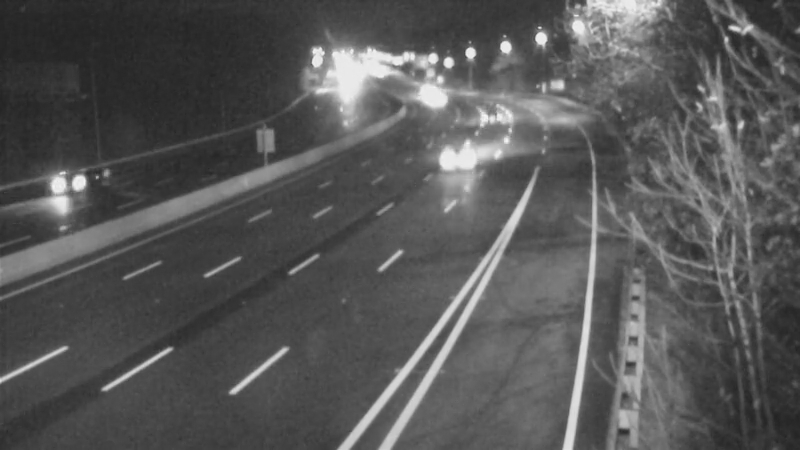vehicle: (416, 120, 496, 200), (15, 146, 95, 226), (399, 61, 449, 111), (409, 74, 459, 124), (462, 92, 512, 142)
